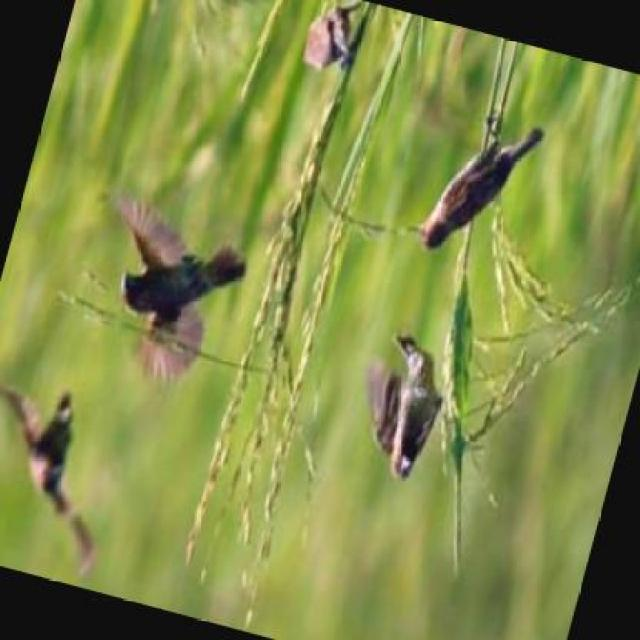Bird: (119, 191, 250, 382), (3, 378, 100, 580), (417, 121, 548, 256), (360, 328, 448, 486), (297, 3, 360, 76)
